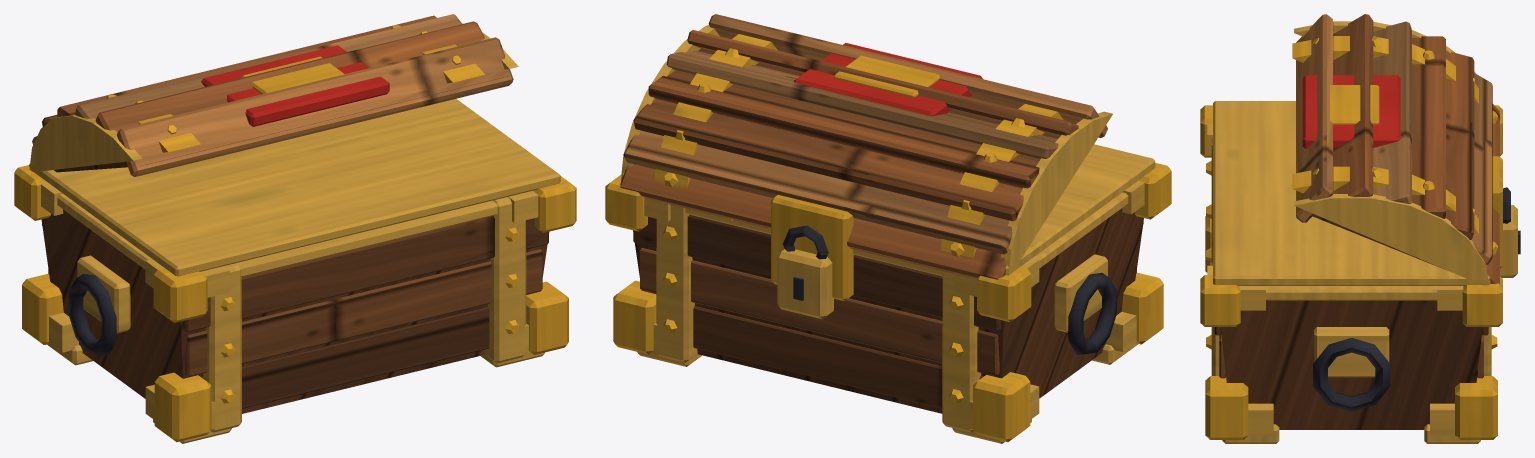
The model's file is chest_treasure.glb.
3 renders of one model, left to right at view 1: azimuth 30°, elevation 25°; view 2: azimuth 150°, elevation 25°; view 3: azimuth 270°, elevation 25°, orthographic. The views are drawn at different scales.
Visible parts, largest first — view 1: TreasureChest; view 2: TreasureChest; view 3: TreasureChest.
Boxes of the visible parts, x1=… form: TreasureChest: x1=14, y1=14, x2=576, y2=443; TreasureChest: x1=605, y1=14, x2=1171, y2=443; TreasureChest: x1=1200, y1=14, x2=1520, y2=443.
Size of the model in its own units: 0.7195 by 0.4578 by 0.508.
4 materials, 4 textured.
